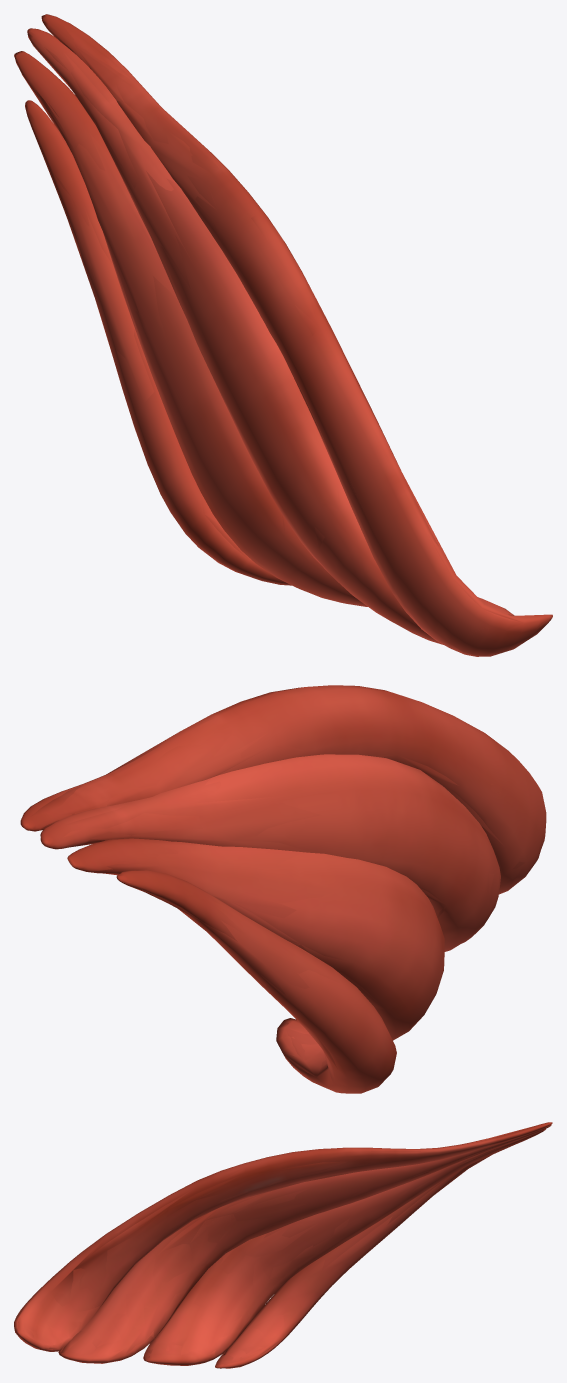
Rendered from R Serratus Ventralis cervicis.fbx.
3 renders of one model, top to bottom at view 1: azimuth 30°, elevation 25°; view 2: azimuth 150°, elevation 25°; view 3: azimuth 270°, elevation 25°, orthographic. The views are drawn at different scales.
Visible parts, largest first — view 1: R Serratus Ventralis cervicis, R Serratus Ventralis cervicis low; view 2: R Serratus Ventralis cervicis, R Serratus Ventralis cervicis low; view 3: R Serratus Ventralis cervicis, R Serratus Ventralis cervicis low.
Boxes of the visible parts, x1=… form: R Serratus Ventralis cervicis: x1=14, y1=14, x2=552, y2=656; R Serratus Ventralis cervicis low: x1=20, y1=20, x2=548, y2=654; R Serratus Ventralis cervicis: x1=20, y1=685, x2=546, y2=1093; R Serratus Ventralis cervicis low: x1=21, y1=686, x2=525, y2=1087; R Serratus Ventralis cervicis: x1=14, y1=1122, x2=552, y2=1368; R Serratus Ventralis cervicis low: x1=14, y1=1125, x2=543, y2=1368.
Size of the model in its own units: 4.37 by 9.29 by 19.12.
